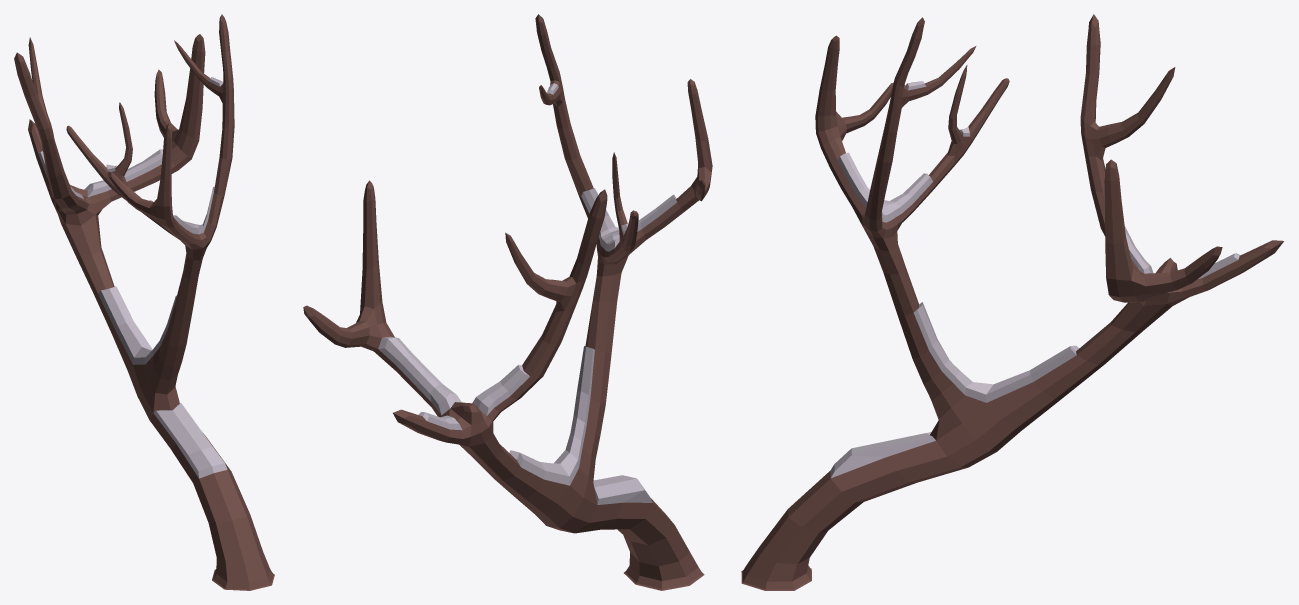
File: Willow Dead Snow 2.glb
The picture shows the model from 3 angles, left to right: view 1: azimuth 30°, elevation 25°; view 2: azimuth 150°, elevation 25°; view 3: azimuth 270°, elevation 25°; orthographic projection. The views are drawn at different scales.
Visible parts, largest first — view 1: Willow_Dead_Snow_2; view 2: Willow_Dead_Snow_2; view 3: Willow_Dead_Snow_2.
Part boxes in pixels (box(x1,y1,x2,y2)): Willow_Dead_Snow_2: box(14, 14, 274, 590); Willow_Dead_Snow_2: box(303, 14, 712, 590); Willow_Dead_Snow_2: box(741, 14, 1283, 590).
Size of the model in its own units: 1.17 by 2.84 by 2.4.
